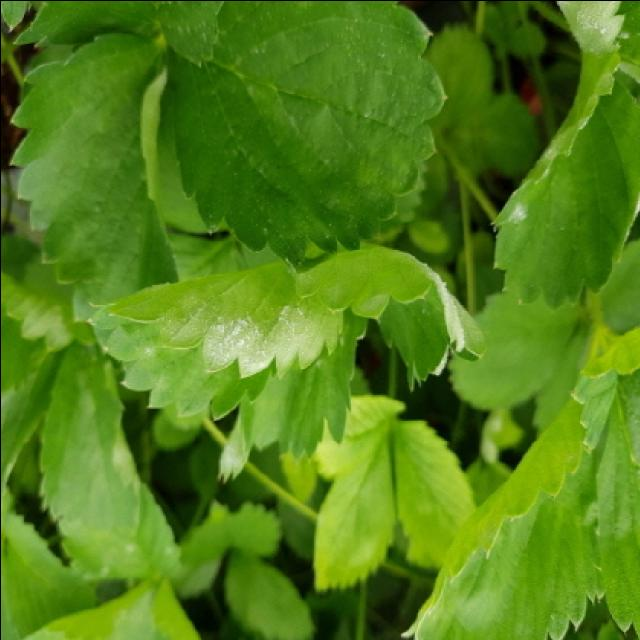Powdery Mildew Leaf: (85, 260, 345, 421), (487, 44, 640, 312), (292, 246, 483, 391), (214, 309, 369, 483), (553, 2, 640, 84)
